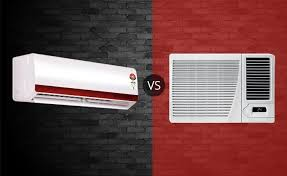ac: (11, 52, 142, 111)
